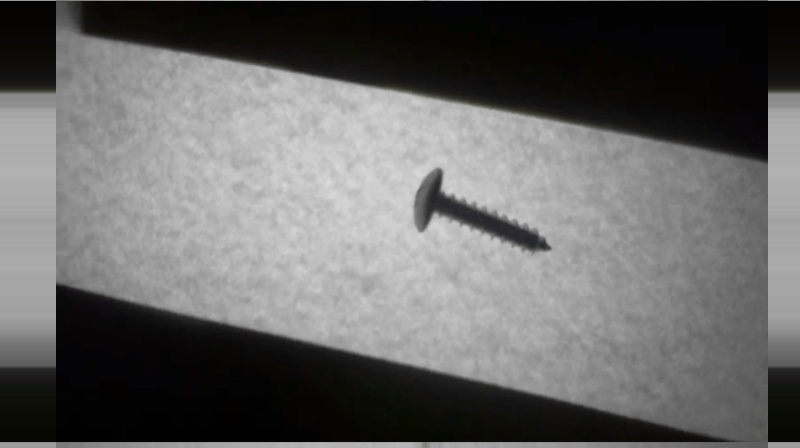S003: (409, 164, 556, 258)
